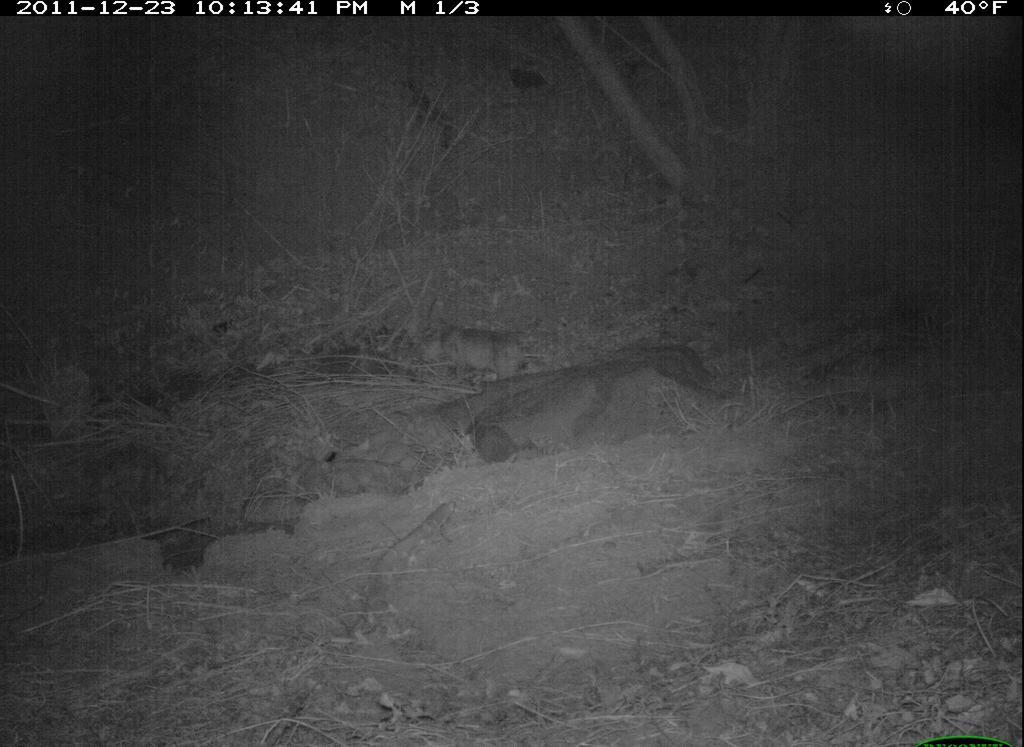bobcat: (431, 321, 556, 396)
